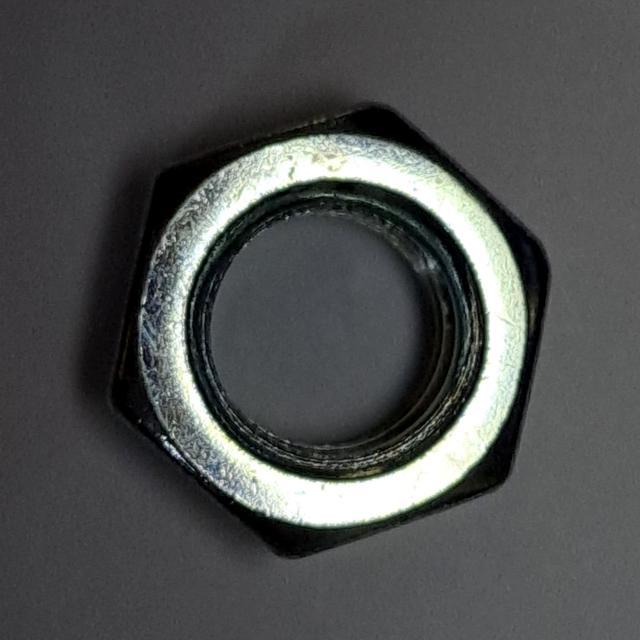Excellent: (87, 90, 563, 580)
